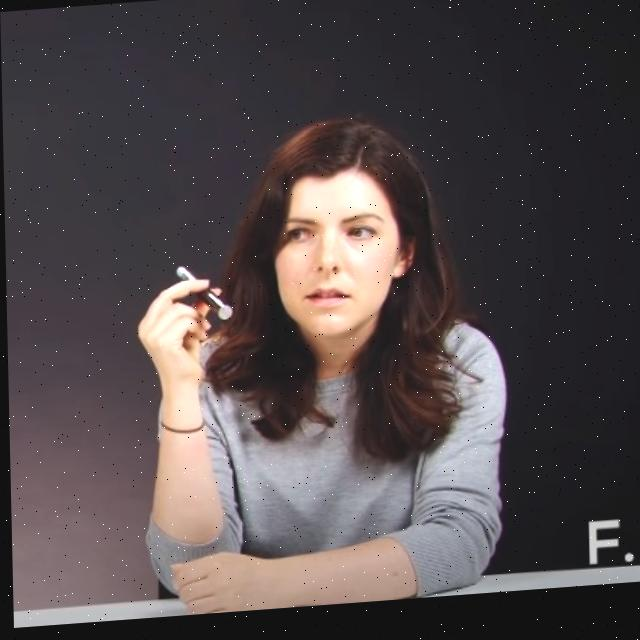vape: (175, 266, 232, 327)
